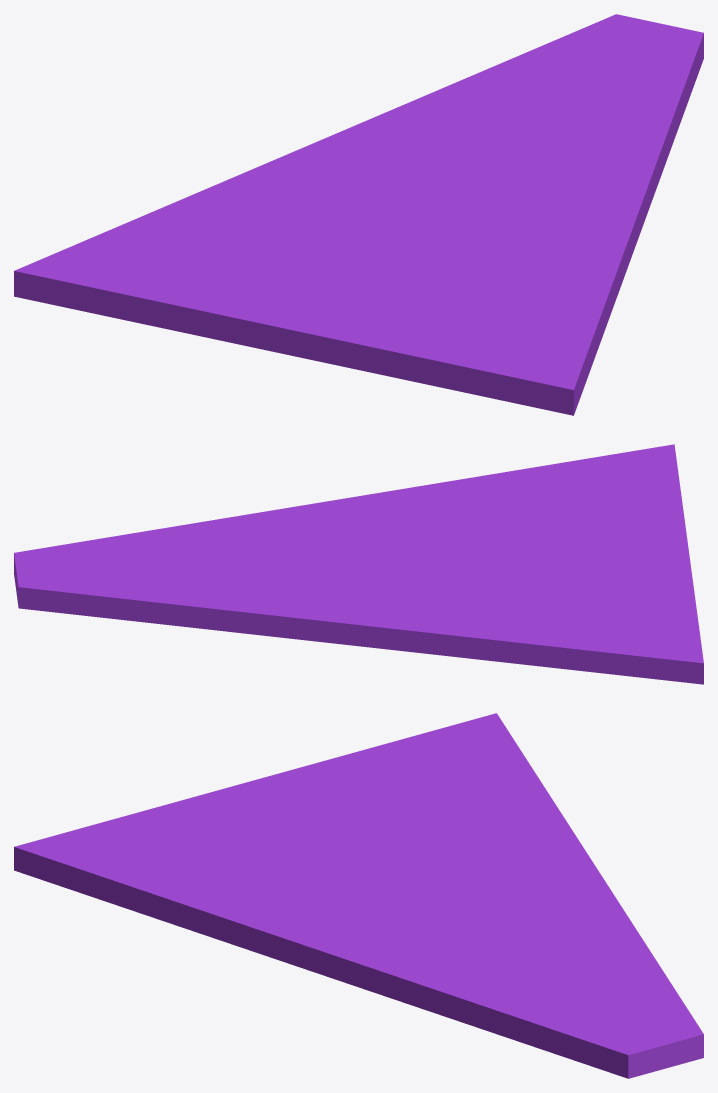
File: StairsStep_32.fbx
3 renders of one model, top to bottom at view 1: azimuth 30°, elevation 25°; view 2: azimuth 150°, elevation 25°; view 3: azimuth 270°, elevation 25°, orthographic. The views are drawn at different scales.
Visible parts, largest first — view 1: StairsStep_32; view 2: StairsStep_32; view 3: StairsStep_32.
Boxes of the visible parts, <box> form: StairsStep_32: <box>14,14,703,415</box>; StairsStep_32: <box>14,444,703,684</box>; StairsStep_32: <box>14,713,703,1078</box>.
Size of the model in its own units: 557 by 17.94 by 474.
